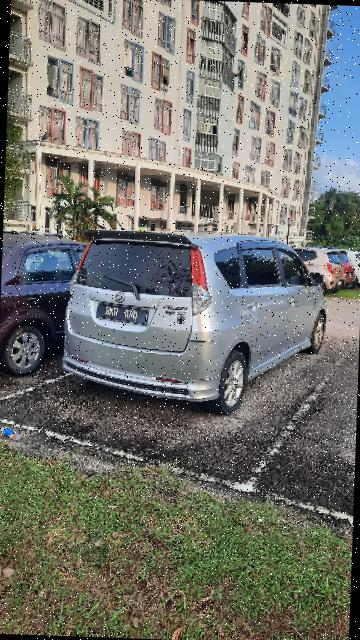License_Plate: (92, 301, 154, 329)
car: (58, 224, 340, 420)
